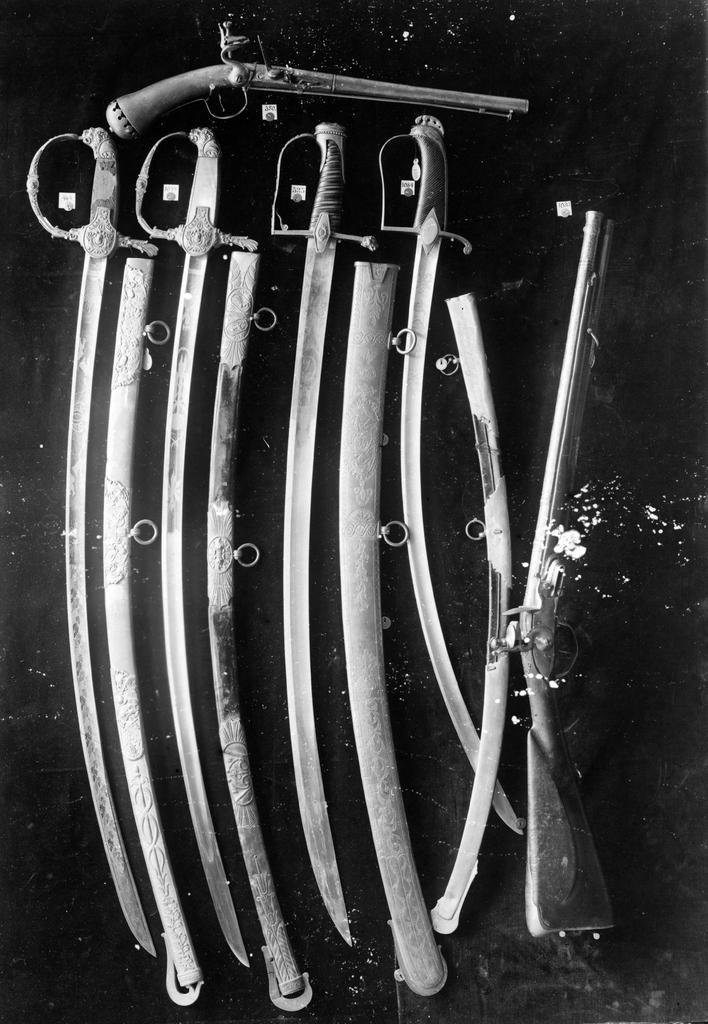knife: (376, 117, 529, 843), (27, 126, 158, 959), (135, 128, 254, 968), (271, 127, 356, 944)
weapon: (486, 200, 619, 942), (105, 12, 535, 141)
